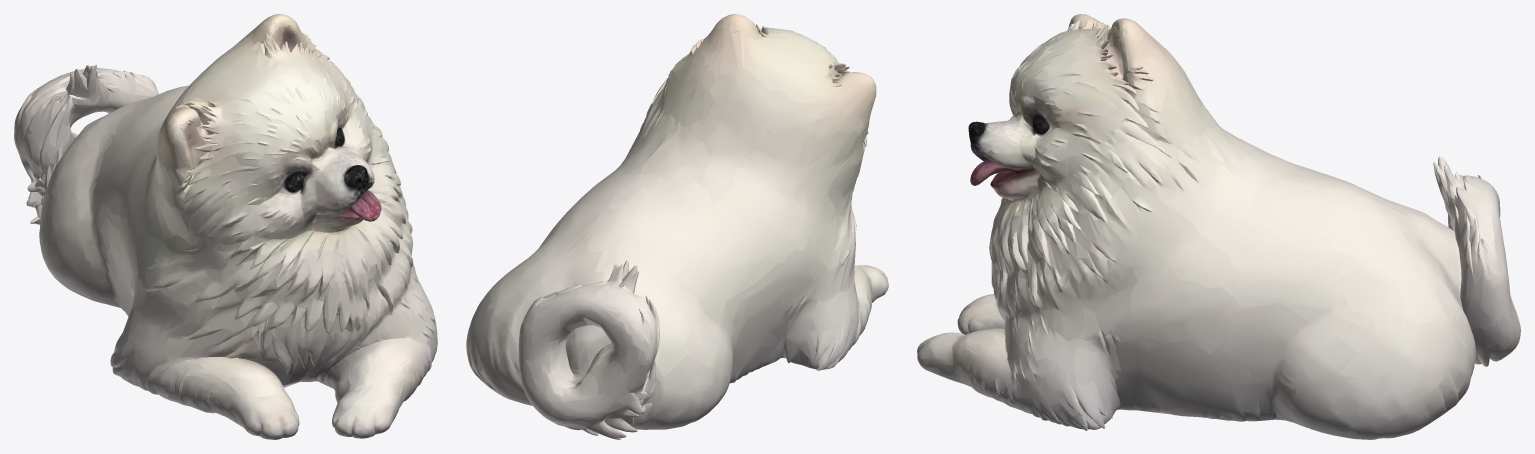
Rendered from 01a1e05c-064e-7060-b50b-ada94cfb2086.glb.
3 views of the same model, side by side, from view 1: azimuth 30°, elevation 25°; view 2: azimuth 150°, elevation 25°; view 3: azimuth 270°, elevation 25° (orthographic). The views are drawn at different scales.
Bounding box in the file's own units: 1.13 × 1.2 × 1.9.
Materials: 1 (1 with a texture image).
